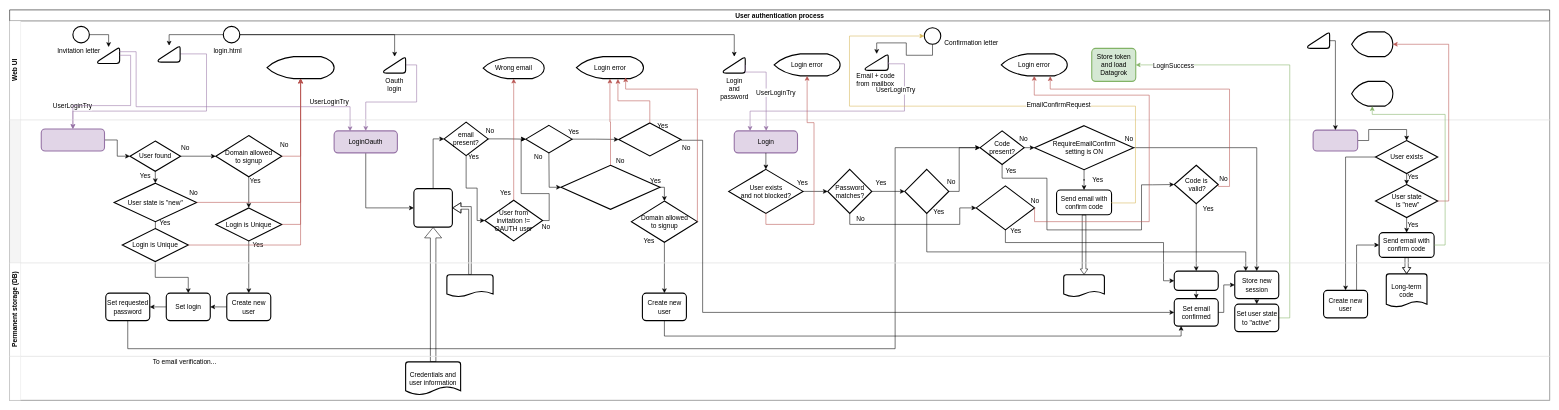
Some shapes in this 1559 by 410 pixel diagram are drawn without their labels. The box of each missing label's shape, as (x1, y1, x2, y2) in pixels:
AllowOauthSignup setting is ON: (560, 164, 660, 210)
Code: (1063, 274, 1105, 297)
Code present, valid and new?: (975, 185, 1035, 230)
Datlas: (9, 119, 1550, 263)
Email confirmed?: (904, 169, 949, 214)
email, new password + code: (97, 46, 120, 64)
Error: (1351, 31, 1393, 57)
Invite: (1312, 129, 1358, 151)
Invite user: (1307, 31, 1330, 49)
Login, email, new password: (157, 45, 180, 62)
OAUTH: (9, 356, 1550, 400)
Request OAUTH provider: (413, 188, 453, 227)
Revoke code: (1173, 270, 1219, 291)
Signup: (40, 128, 105, 151)
Signup Error: (266, 56, 334, 79)
Success: (1351, 81, 1393, 106)
User: (446, 274, 493, 297)
User exits: (525, 125, 572, 153)
User is blocked: (618, 122, 681, 156)
